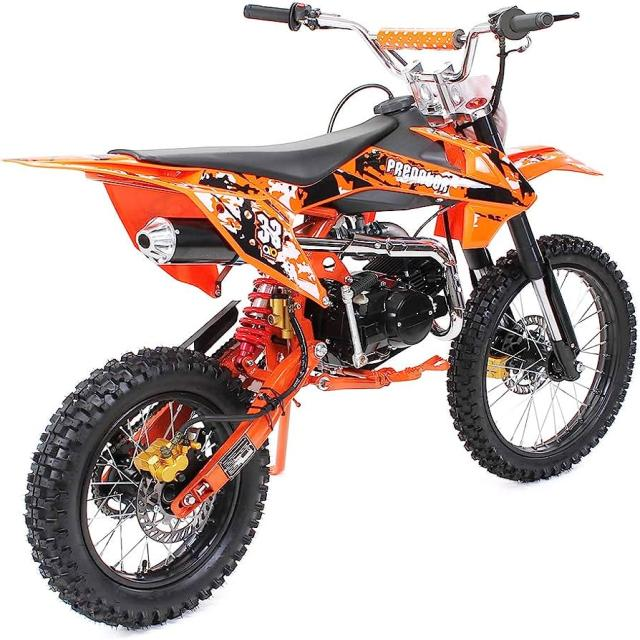Motorcycle: (14, 5, 636, 629)
